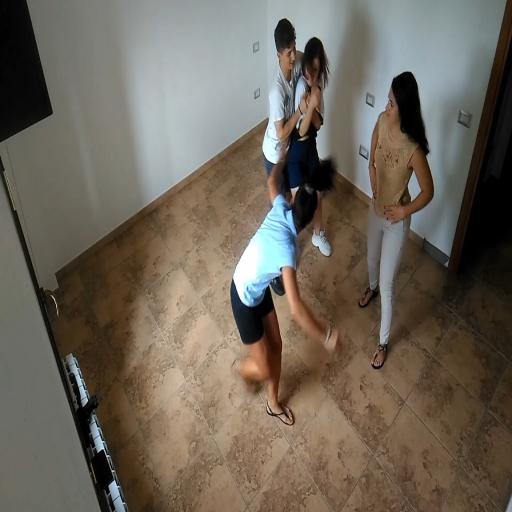violencia: (260, 11, 338, 269)
